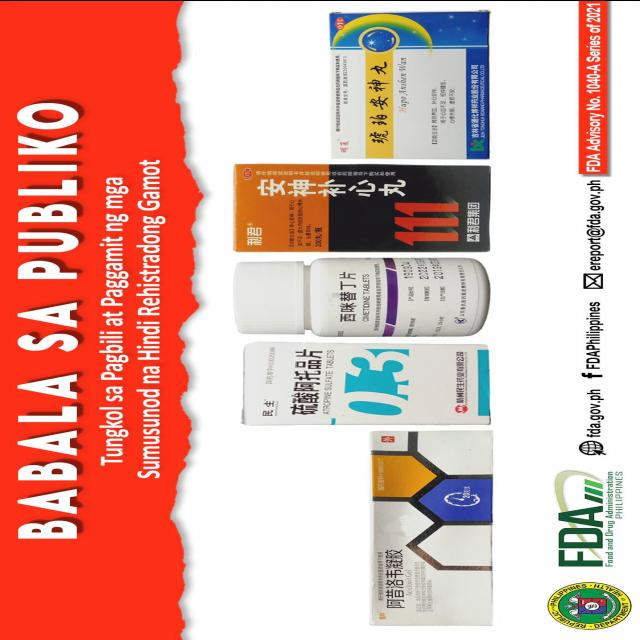counterfeit: (359, 430, 501, 632), (334, 2, 496, 160), (222, 162, 491, 252), (235, 342, 499, 427), (225, 254, 489, 334)
